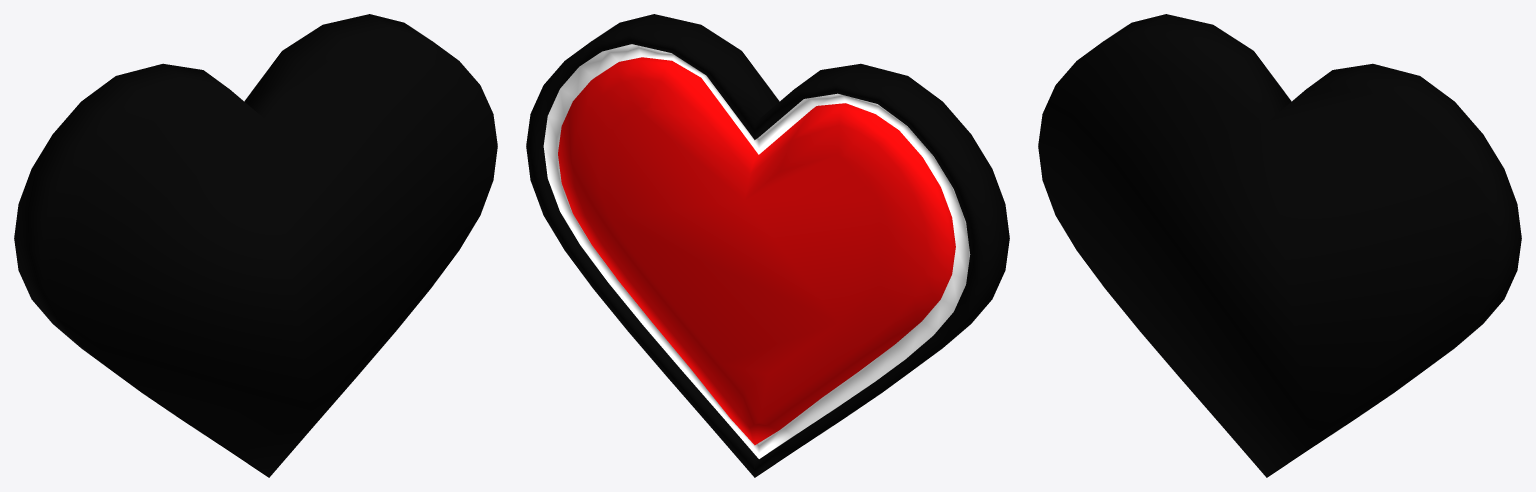
File: heart.glb
The picture shows the model from 3 angles, left to right: view 1: azimuth 30°, elevation 25°; view 2: azimuth 150°, elevation 25°; view 3: azimuth 330°, elevation 25°; orthographic projection.
Visible parts, largest first — view 1: heart; view 2: heart; view 3: heart.
Boxes of the visible parts, bbox=[...] form: heart: bbox=[14, 14, 497, 477]; heart: bbox=[526, 14, 1009, 477]; heart: bbox=[1038, 14, 1521, 477].
Size of the model in its own units: 1.02 by 0.8806 by 0.1412.
1 material, 1 textured.
